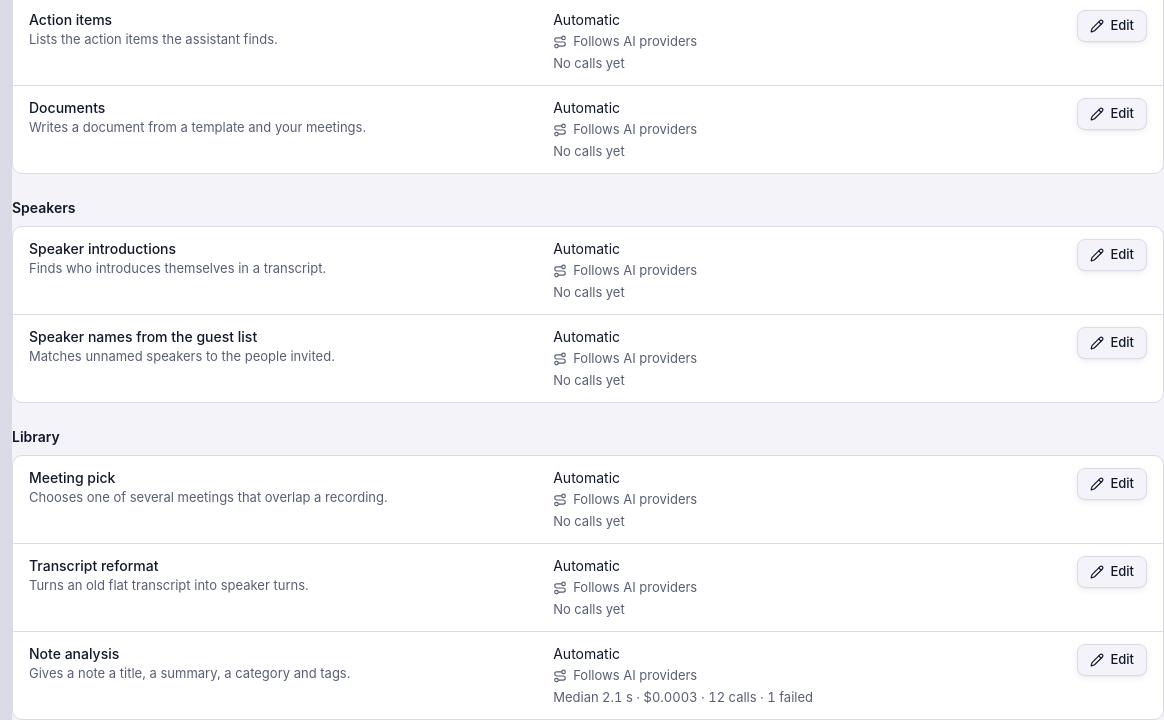
Test case: PipelineSection › closes the editor on Cancel without saving
(page scrolled)
Click the button with aria-label "Edit Note analysis". click: (1112, 660)
box: [1077,644,1147,676]
(page scrolled)
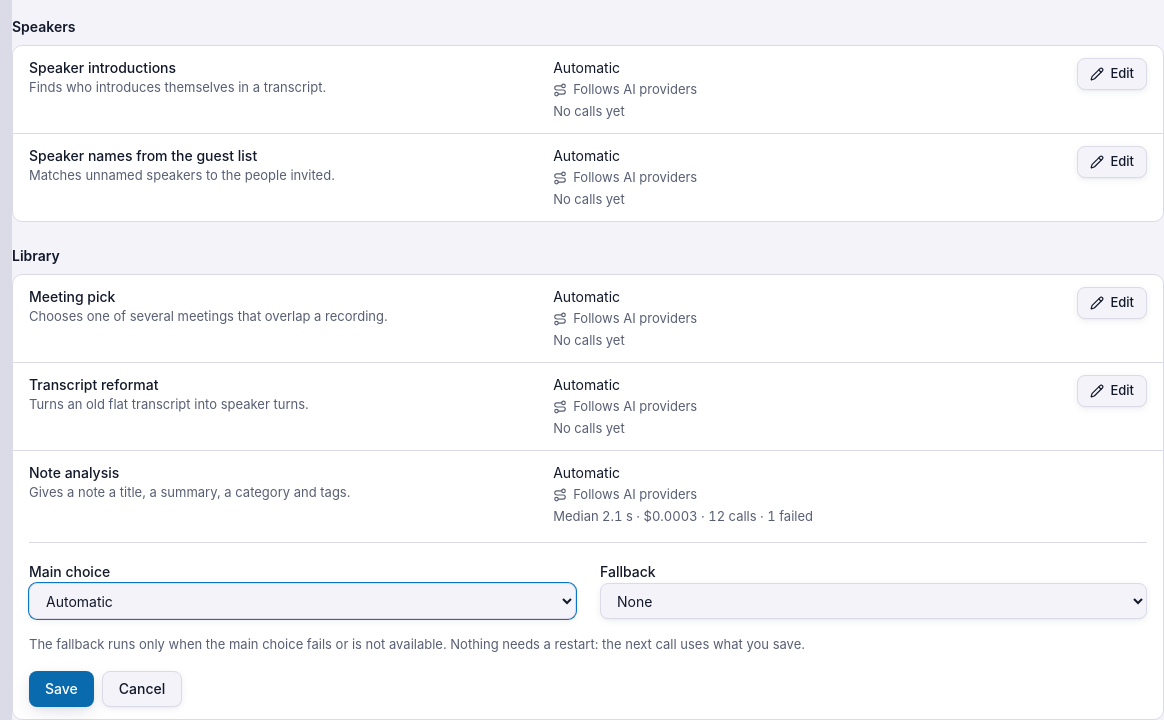
Click the button "Cancel". click: (142, 688)
box: [102,670,182,706]
(page scrolled)
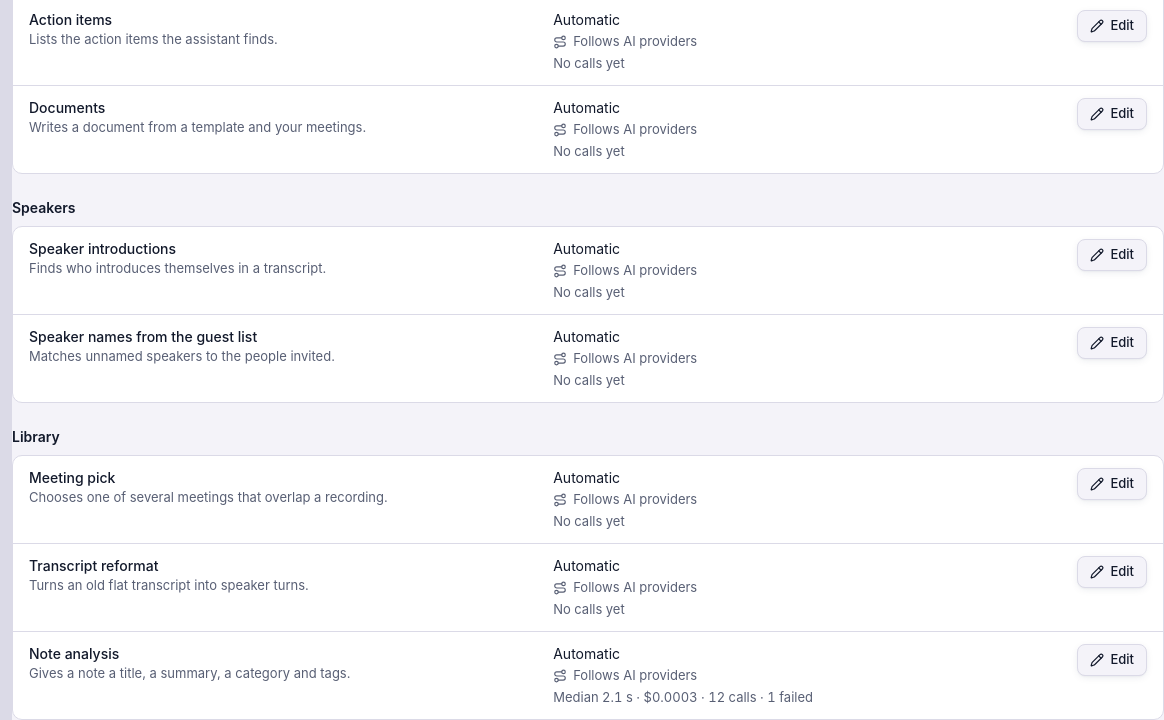
Result: the label labelled "Main choice" is gone
